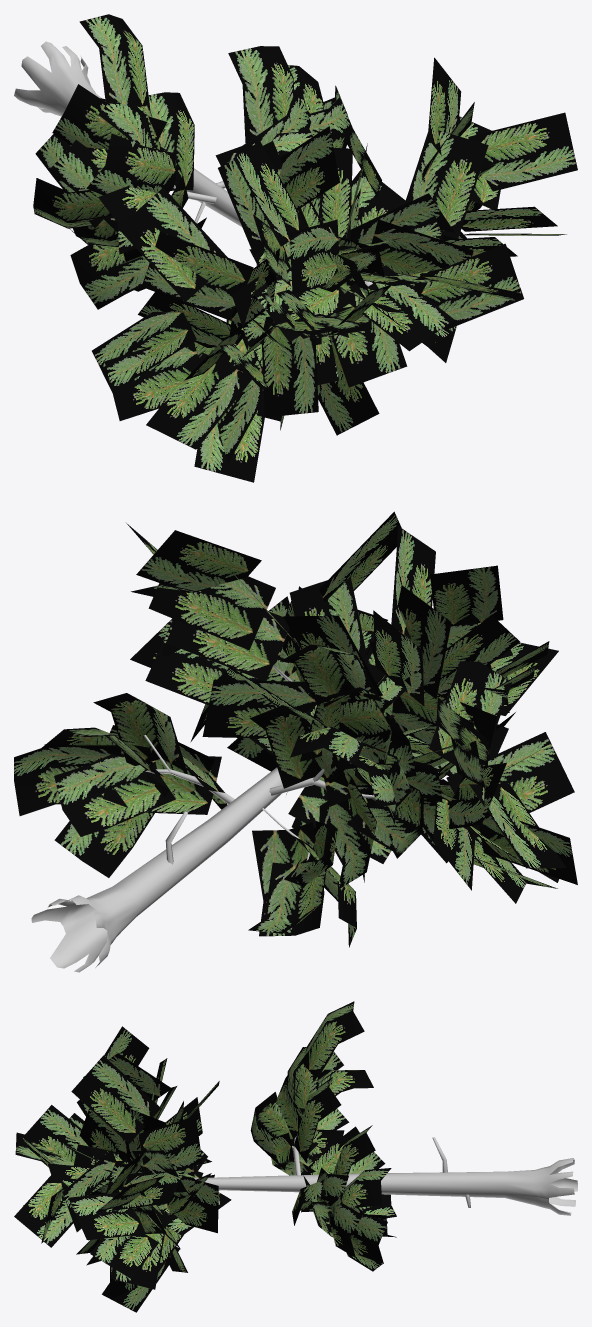
The model's file is Tree 3.fbx.
3 renders of one model, top to bottom at view 1: azimuth 30°, elevation 25°; view 2: azimuth 150°, elevation 25°; view 3: azimuth 270°, elevation 25°, orthographic. The views are drawn at different scales.
Visible parts, largest first — view 1: Circle; view 2: Circle; view 3: Circle.
Part boxes in pixels (bbox=[...]): Circle: bbox=[14, 14, 577, 482]; Circle: bbox=[14, 511, 577, 972]; Circle: bbox=[14, 1001, 577, 1312].
Bounding box in the file's own units: 3.3 × 2.48 × 4.75.
